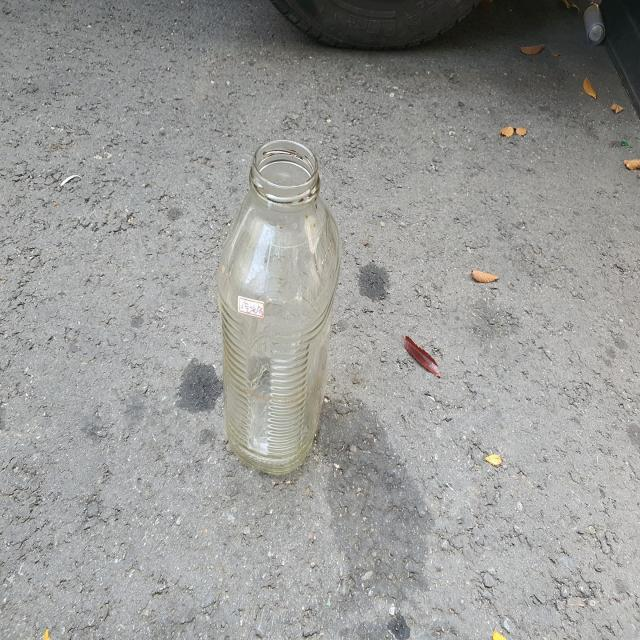glass: (217, 139, 341, 475)
